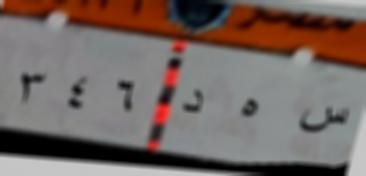3: (12, 67, 50, 112)
4: (62, 73, 98, 118)
6: (110, 70, 148, 118)
daal: (174, 86, 213, 122)
haa: (227, 96, 266, 133)
seen: (285, 103, 356, 141)
